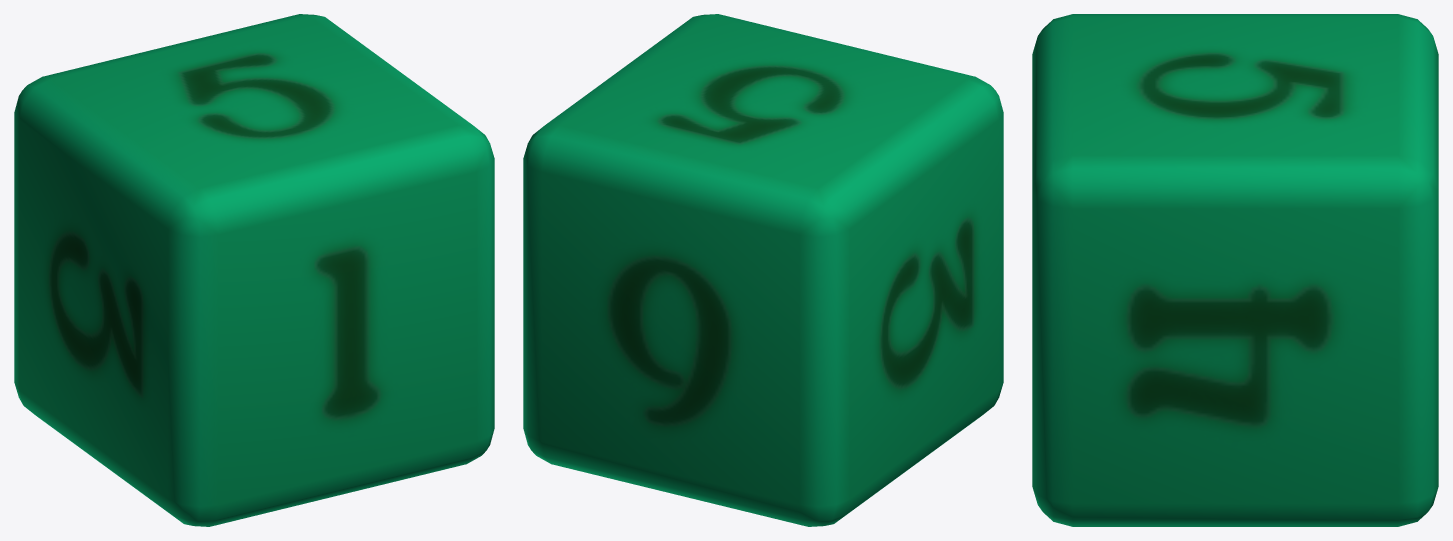
File: D6_C_green.glb
3 views of the same model, side by side, from view 1: azimuth 30°, elevation 25°; view 2: azimuth 150°, elevation 25°; view 3: azimuth 270°, elevation 25° (orthographic). The views are drawn at different scales.
Parts seen in each view (by area): view 1: D6_C_green; view 2: D6_C_green; view 3: D6_C_green.
Part boxes in pixels (bbox=[...]): D6_C_green: bbox=[14, 14, 494, 526]; D6_C_green: bbox=[523, 14, 1003, 526]; D6_C_green: bbox=[1032, 14, 1438, 526].
Size of the model in its own units: 0.75 by 0.75 by 0.75.
1 material, 1 textured.
